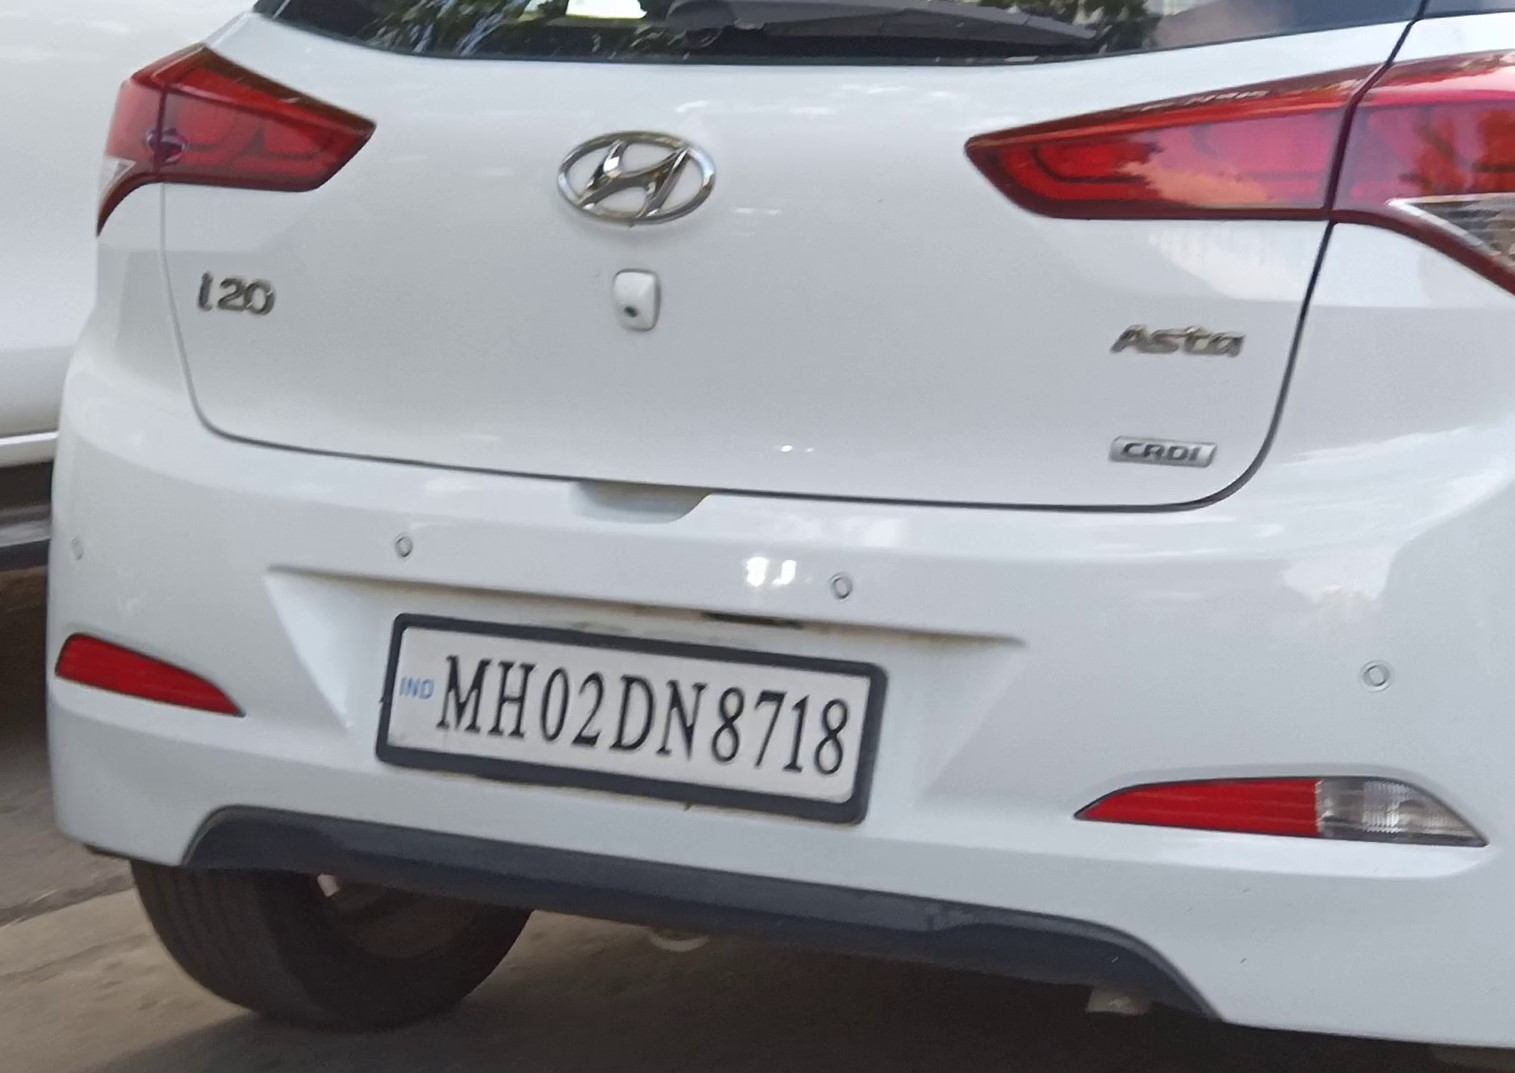MH02DN8718: (383, 622, 872, 802)
